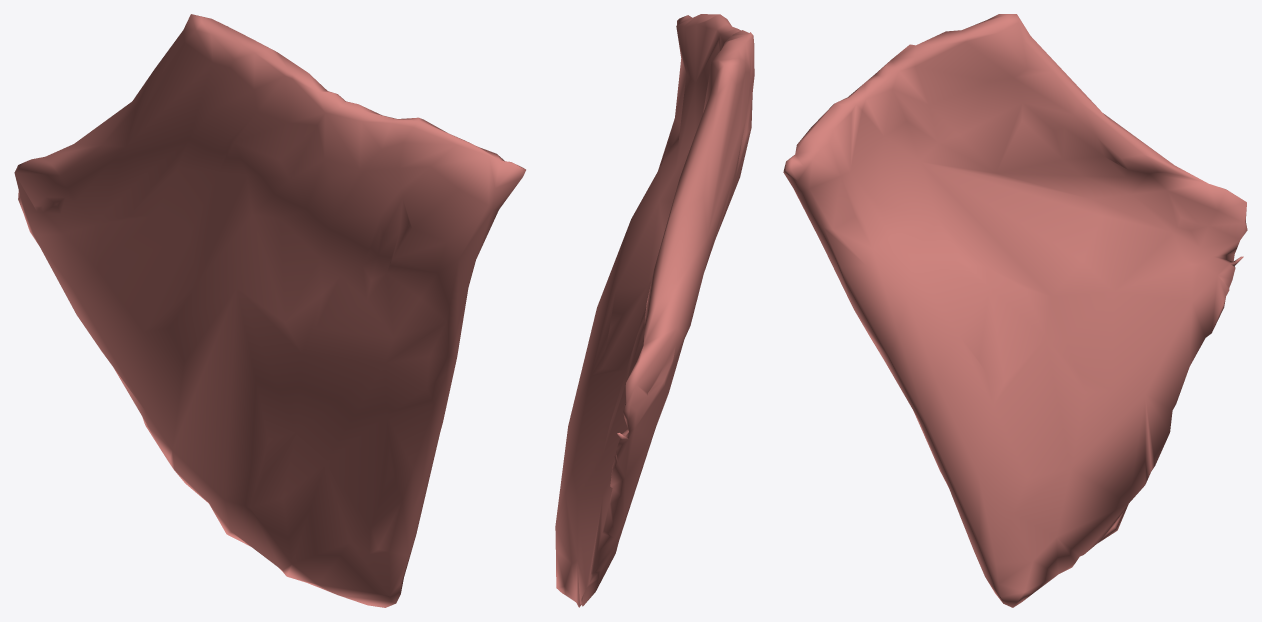
3 renders of one model, left to right at view 1: azimuth 30°, elevation 25°; view 2: azimuth 150°, elevation 25°; view 3: azimuth 270°, elevation 25°, orthographic. The views are drawn at different scales.
Visible parts, largest first — view 1: ZA_22f0a40ed088e09c; view 2: ZA_22f0a40ed088e09c; view 3: ZA_22f0a40ed088e09c.
Boxes of the visible parts, x1,y1,x2,y2 form: ZA_22f0a40ed088e09c: (14,14,525,607); ZA_22f0a40ed088e09c: (555,14,754,607); ZA_22f0a40ed088e09c: (783,14,1247,607).
Size of the model in its own units: 0.0123 by 0.0308 by 0.025.
